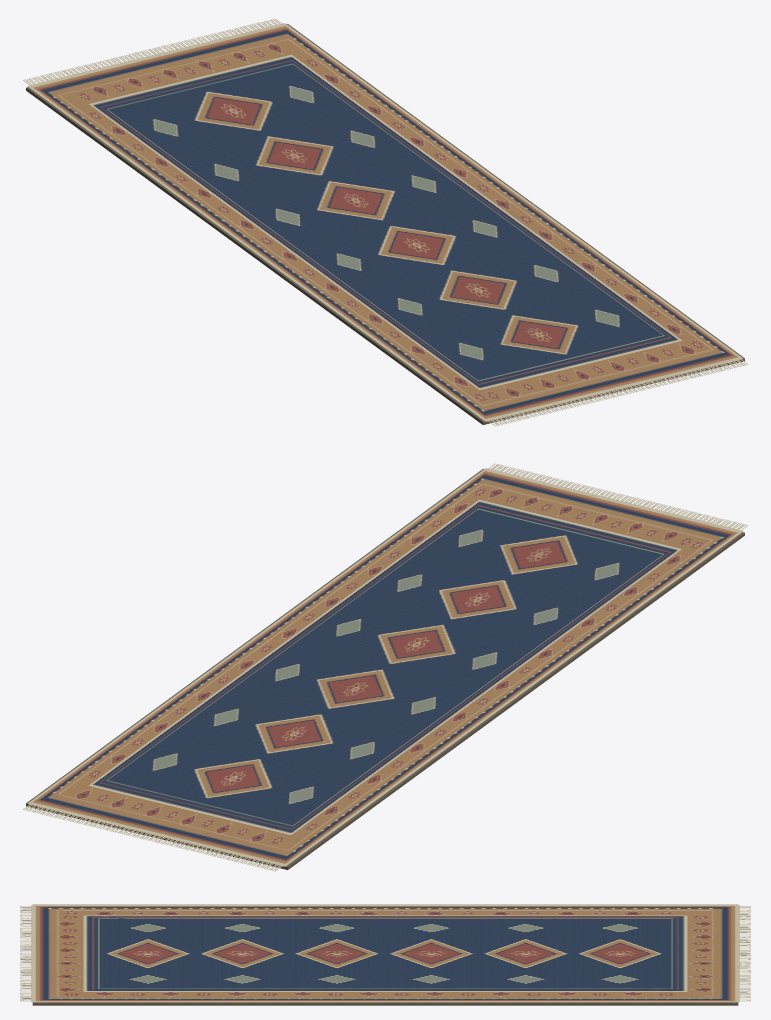
Rendered from officePersianIndigoRunner.glb.
The picture shows the model from 3 angles, top to bottom: view 1: azimuth 30°, elevation 25°; view 2: azimuth 150°, elevation 25°; view 3: azimuth 270°, elevation 25°; orthographic projection. The views are drawn at different scales.
Size of the model in its own units: 1.1 by 0.014 by 3.5.
Materials: 2 (1 with a texture image).
